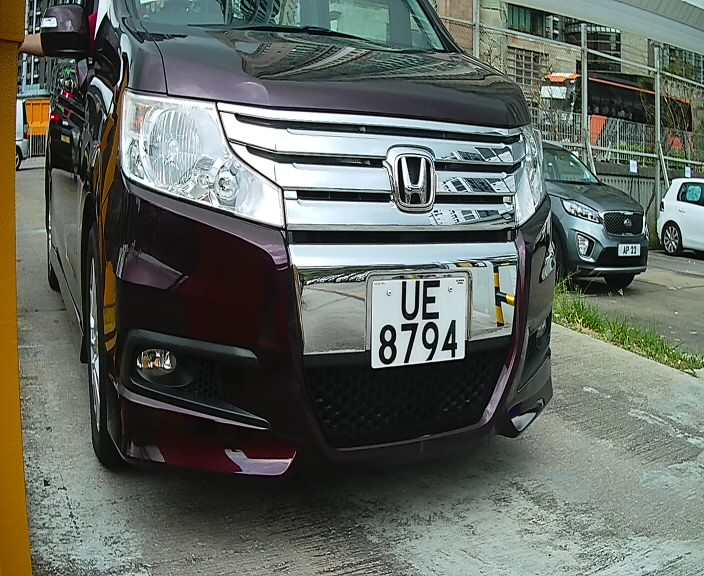License Plate: (362, 260, 488, 383)
